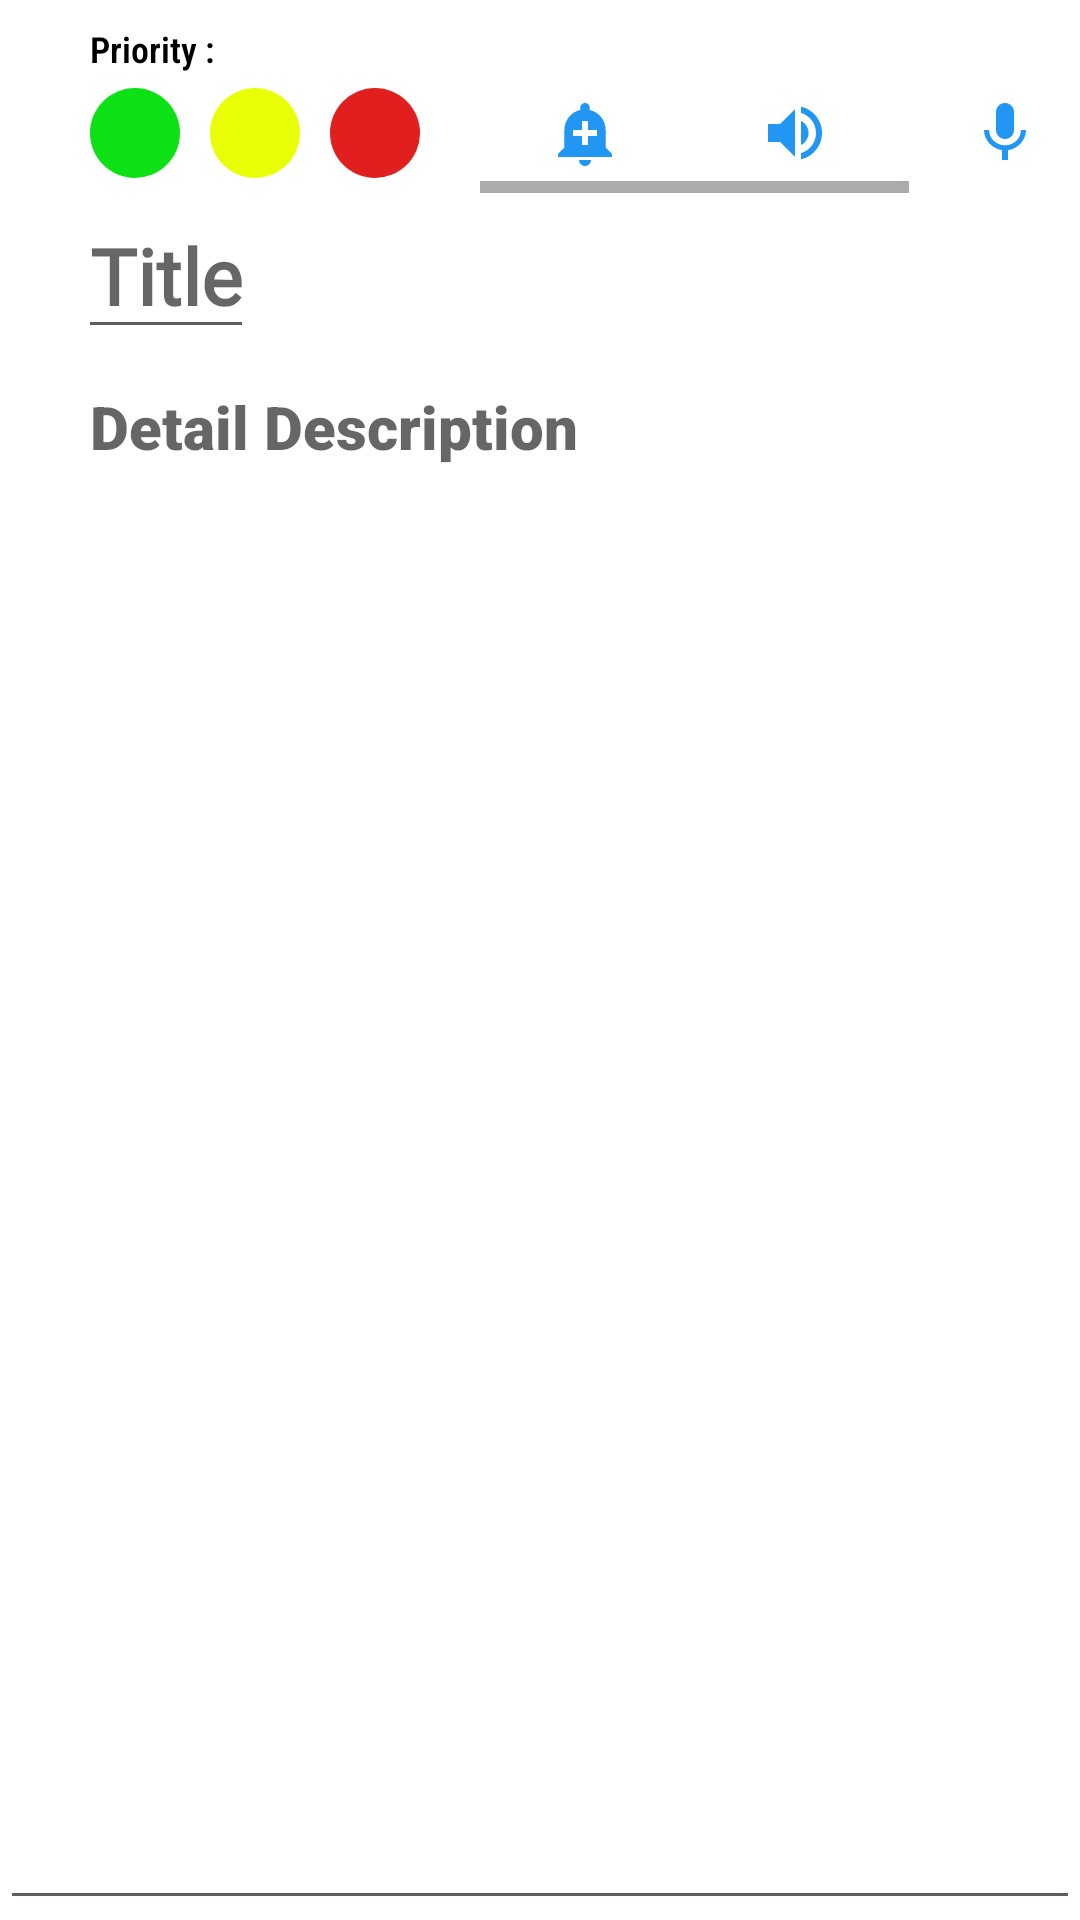

Where icons sit on this 1080*1920 app screen, as (x1, y1, x2, y2):
Reminder: (558, 103, 612, 166)
Speech to text: (984, 103, 1026, 160)
